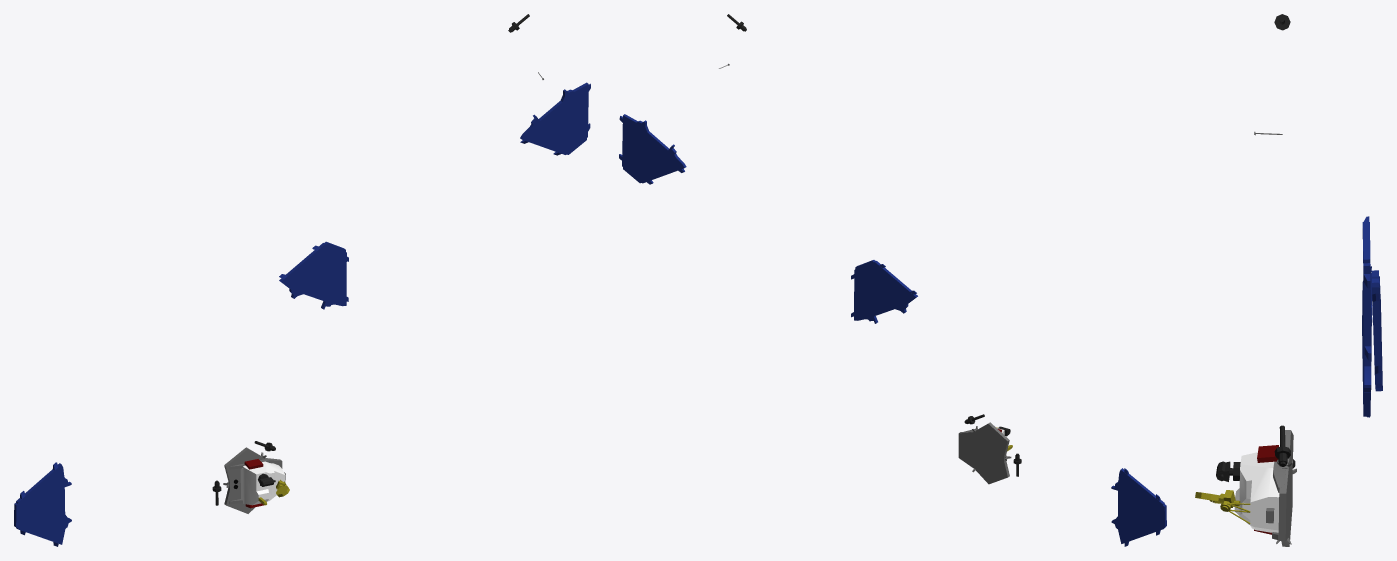
Rendered from pathfinder-lander.glb.
The picture shows the model from 3 angles, left to right: view 1: azimuth 30°, elevation 25°; view 2: azimuth 150°, elevation 25°; view 3: azimuth 270°, elevation 25°; orthographic projection. The views are drawn at different scales.
Size of the model in its own units: 11.9 by 8.67 by 1.86.
